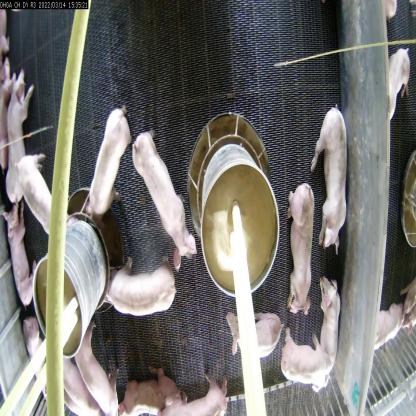Pig: (132, 134, 195, 264), (280, 186, 324, 318), (312, 108, 352, 250), (103, 266, 181, 338), (86, 108, 132, 227), (63, 318, 113, 415), (222, 290, 288, 363), (8, 69, 39, 216), (277, 324, 337, 398), (316, 270, 354, 381), (5, 199, 42, 312), (14, 154, 60, 229), (124, 372, 189, 415), (151, 389, 237, 415)
